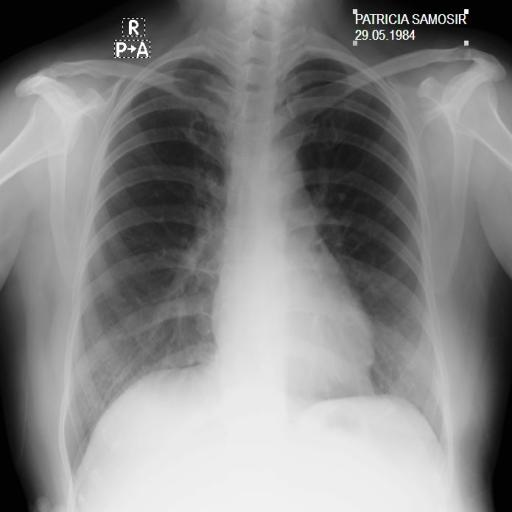normal: (50, 22, 456, 486)
